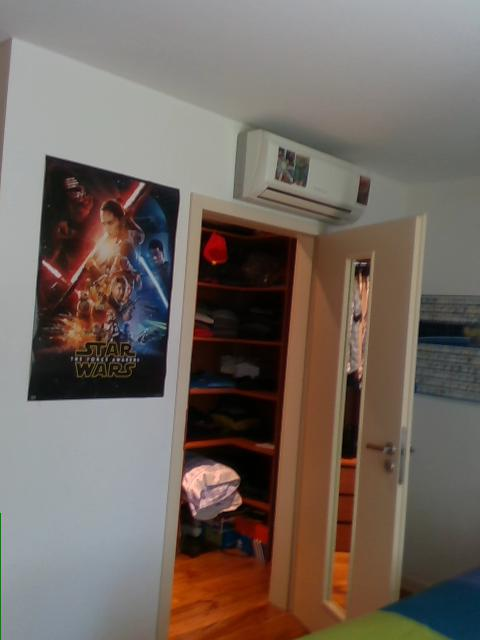door: (287, 214, 426, 633)
